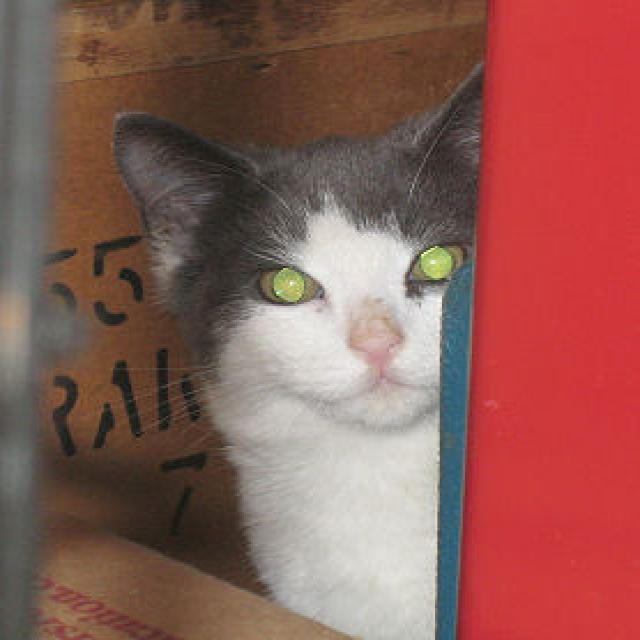Cats: (108, 60, 484, 638)
